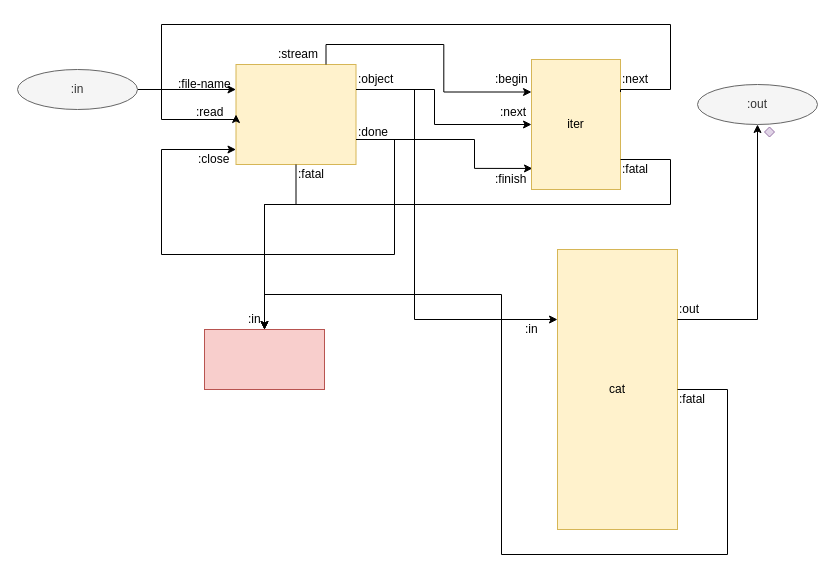
Some shapes in this 835 by 580 pixel diagram are drawn without their labels. Here are the shapes that lost their labels. From the top down, the box of each, then its label:
(235, 64, 356, 164): filestream
(204, 328, 324, 390): fatal-error
